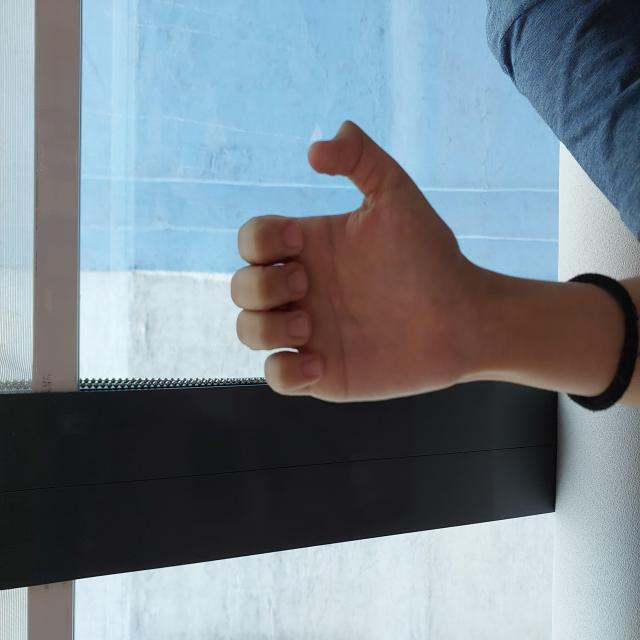E: (237, 229, 524, 458)
